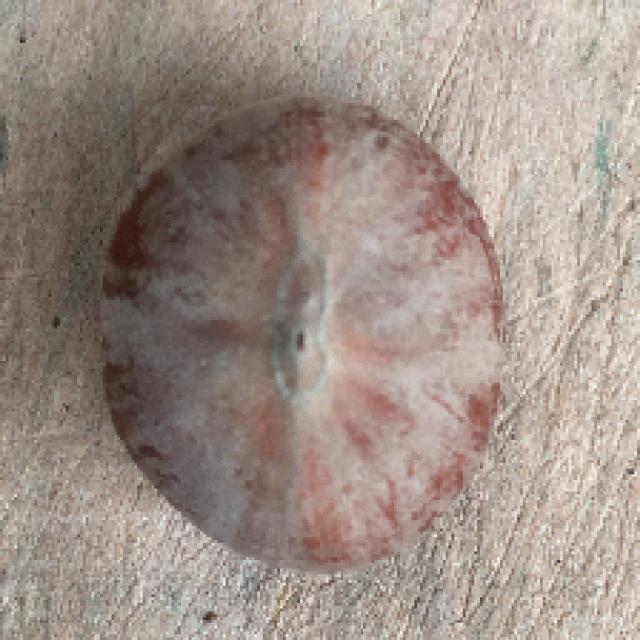qualityHazelnut: (83, 91, 514, 580)
